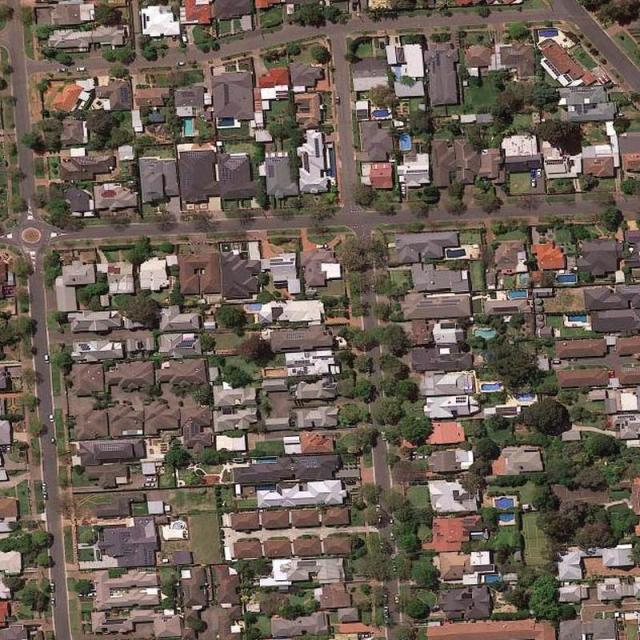vehicle: (550, 359, 561, 364), (182, 33, 188, 42), (609, 369, 615, 378), (317, 244, 327, 249), (402, 183, 406, 195), (146, 478, 157, 482), (49, 414, 54, 422), (384, 606, 388, 616), (394, 594, 399, 602), (531, 169, 536, 177), (50, 583, 54, 593), (51, 598, 56, 606), (45, 354, 49, 363), (142, 483, 154, 486), (336, 97, 340, 106), (362, 634, 371, 638), (384, 614, 388, 623), (391, 554, 395, 563), (392, 565, 396, 574), (532, 178, 536, 187), (418, 456, 429, 459), (177, 62, 185, 66), (383, 594, 387, 602), (390, 532, 394, 540), (390, 518, 394, 526), (376, 505, 380, 513), (537, 169, 541, 177), (42, 483, 46, 490), (42, 492, 46, 499), (377, 516, 381, 522), (58, 69, 65, 72), (76, 68, 85, 70)
